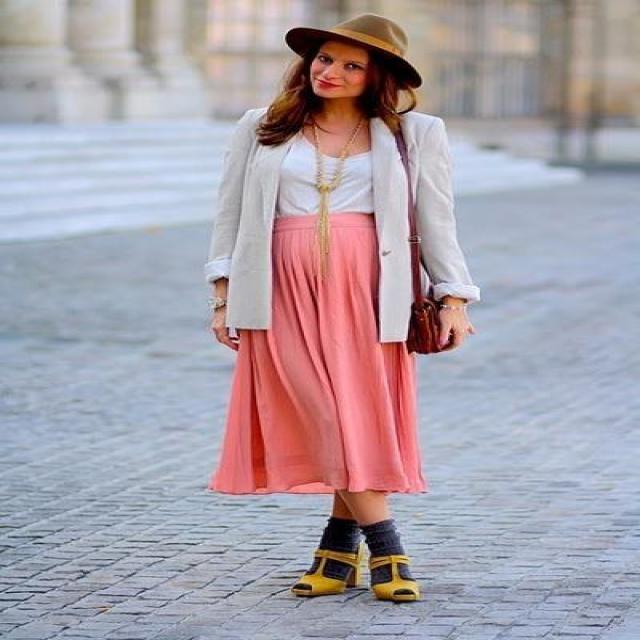bag: (387, 192, 466, 359)
dress: (211, 135, 424, 495)
hat: (285, 16, 421, 86)
jacket: (189, 106, 478, 344)
shoe: (291, 527, 419, 604)
